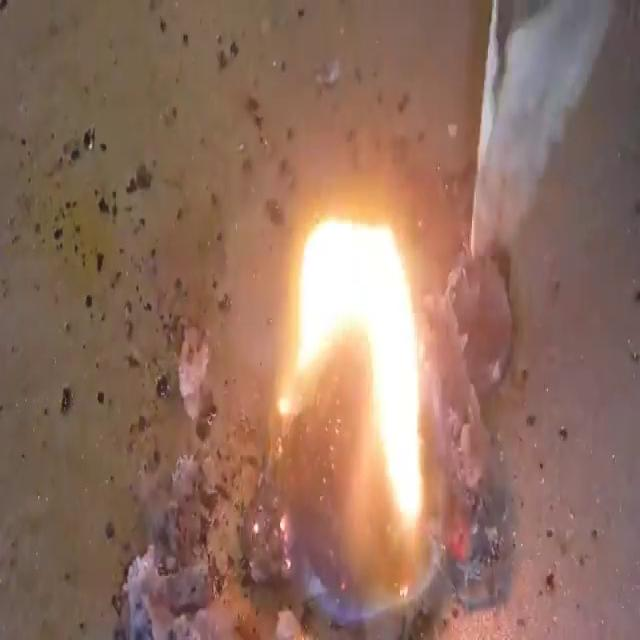Fire: (261, 124, 476, 636)
